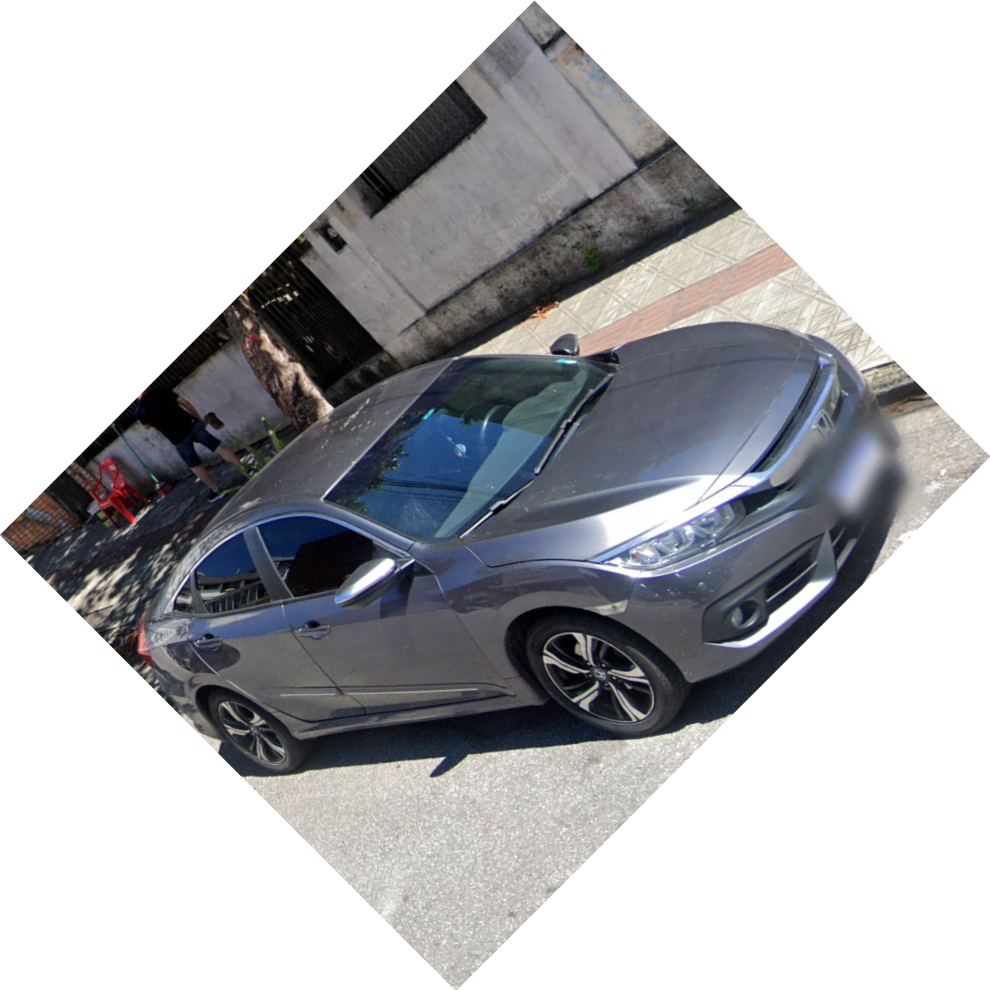car: (133, 316, 901, 770)
